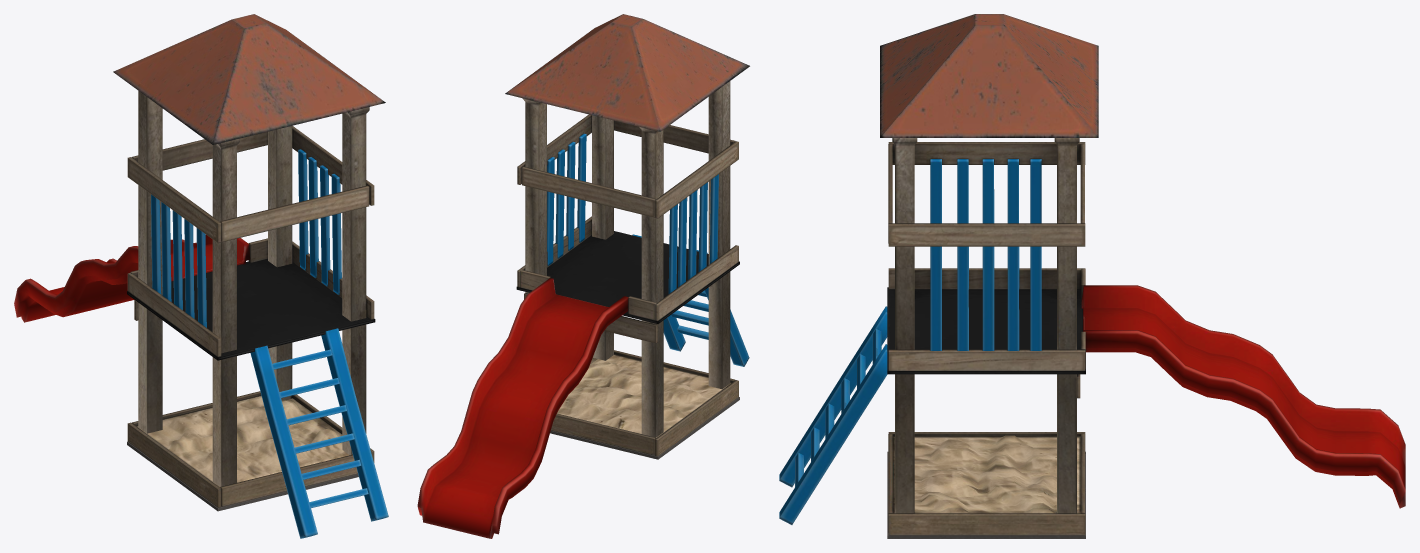
Rendered from slide.glb.
The picture shows the model from 3 angles, left to right: view 1: azimuth 30°, elevation 25°; view 2: azimuth 150°, elevation 25°; view 3: azimuth 270°, elevation 25°; orthographic projection. The views are drawn at different scales.
Visible parts, largest first — view 1: Object_2; view 2: Object_2; view 3: Object_2.
Boxes of the visible parts, x1,y1,x2,y2 form: Object_2: (14, 14, 388, 538); Object_2: (417, 14, 749, 538); Object_2: (779, 14, 1405, 538).
Bounding box in the file's own units: 2.96 × 7.2 × 8.48.
1 material, 1 textured.
